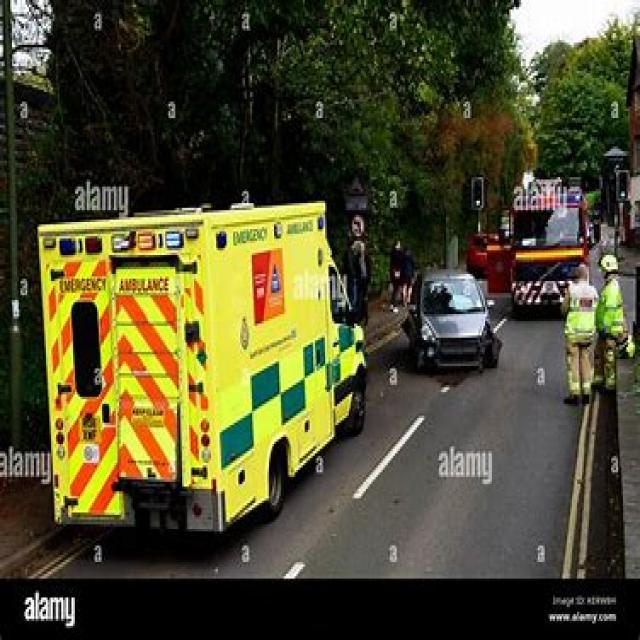Fire-engine: (480, 112, 640, 410)
